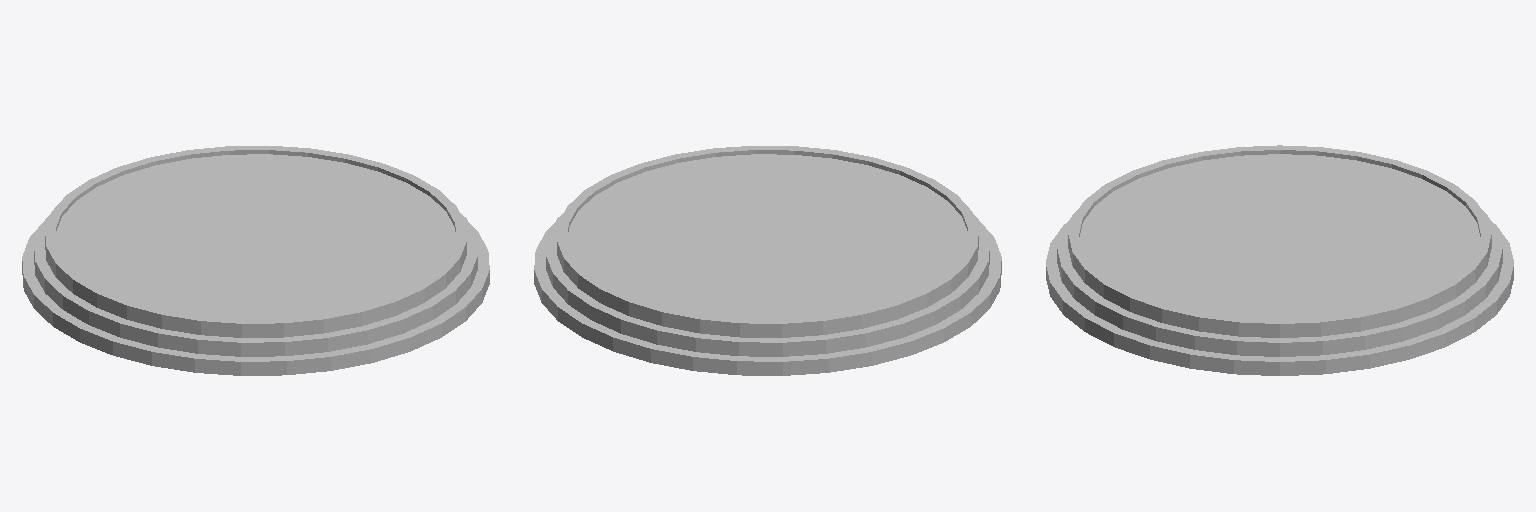
Rendered from CircleBase.obj.
The picture shows the model from 3 angles: view 1: azimuth 30°, elevation 25°; view 2: azimuth 150°, elevation 25°; view 3: azimuth 270°, elevation 25°; orthographic projection.
Visible parts, largest first — view 1: CircleBase; view 2: CircleBase; view 3: CircleBase.
Part boxes in pixels (left/top/right/bottom): CircleBase: left=22, top=146, right=489, bottom=375; CircleBase: left=534, top=146, right=1001, bottom=375; CircleBase: left=1046, top=145, right=1513, bottom=375.
Size of the model in its own units: 6 by 0.6 by 6.